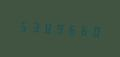eight: (41, 18, 52, 36)
five: (17, 17, 28, 34)
nine: (53, 19, 64, 37)
six: (65, 20, 76, 38), (77, 21, 88, 38)
three: (29, 17, 40, 35)
zero: (89, 22, 100, 39)
